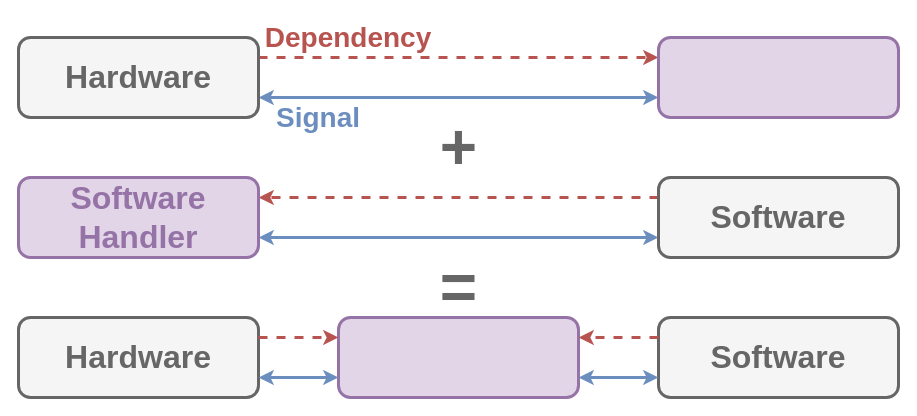
Some shapes in this 917 by 416 pixel diagram are drawn without their labels. The shapes that lost their labels are listed below. From the top down, each one's centre as x and y in pixels, then its label:
At pixel 778 77: "Hardware Handler".
At pixel 458 357: "Module".
